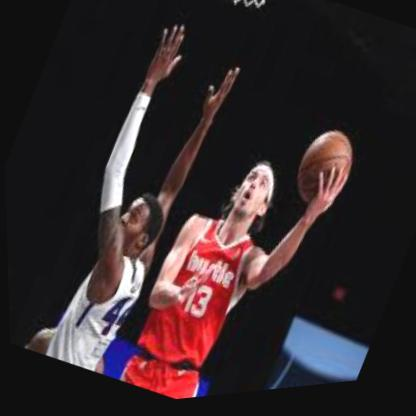basketball: (283, 124, 364, 222)
